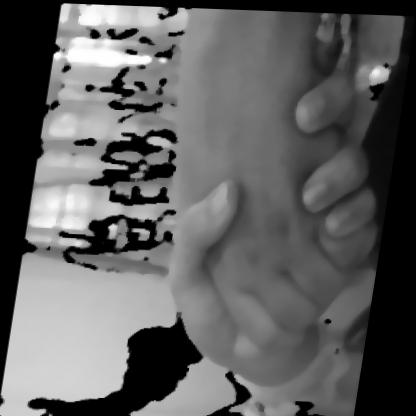handshake: (131, 15, 404, 404)
